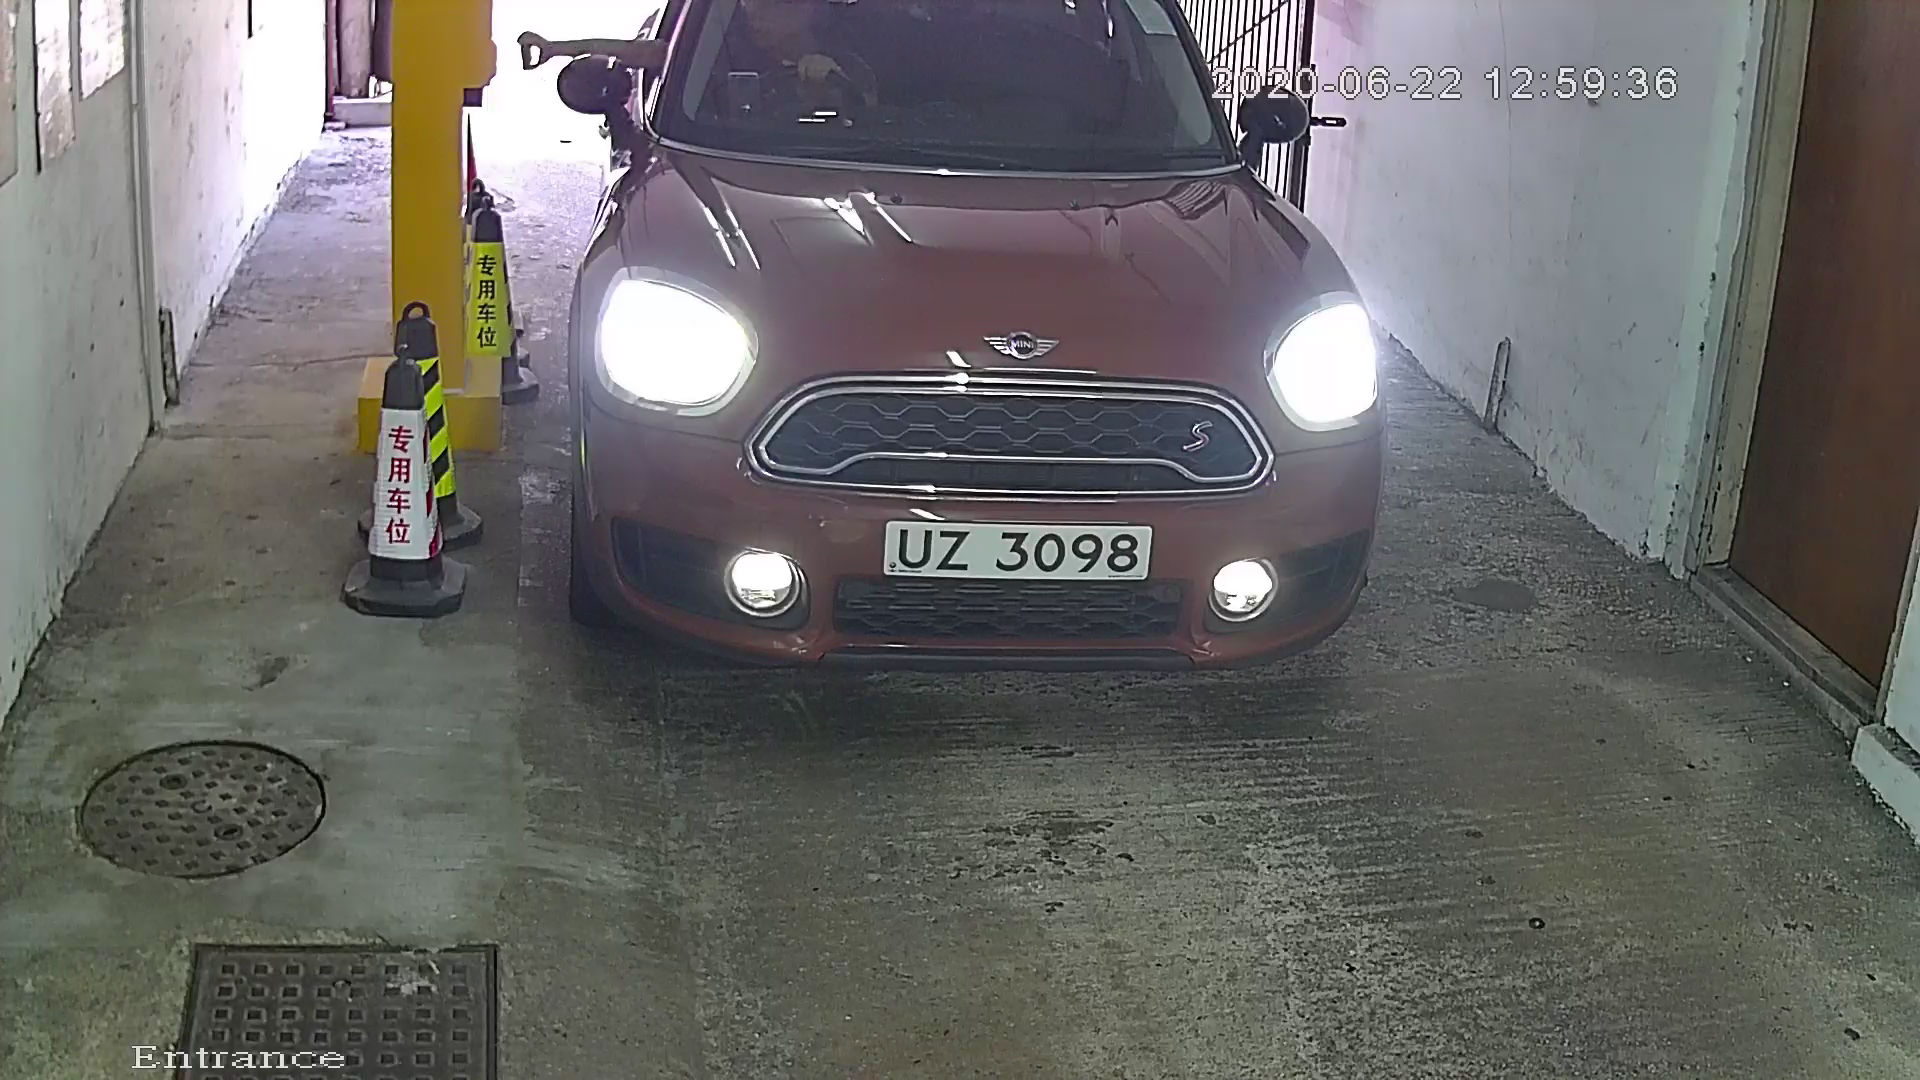privatecar: (509, 3, 1477, 737)
